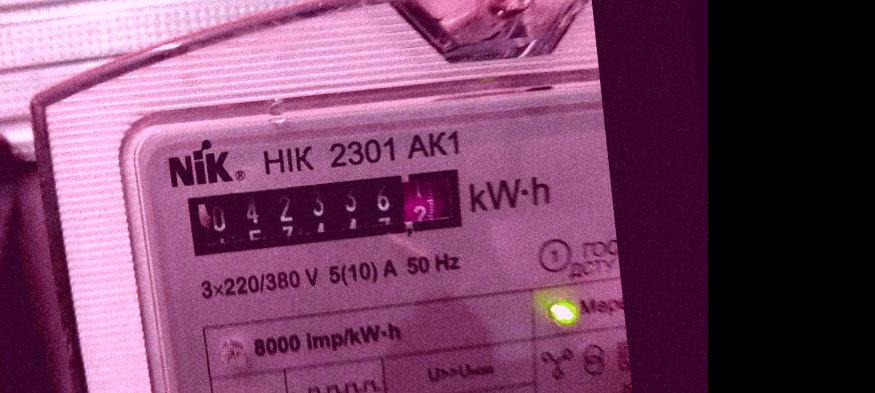0: (208, 203, 227, 233)
1: (409, 177, 423, 200)
2: (275, 192, 294, 223), (410, 202, 427, 222)
3: (338, 182, 357, 214), (307, 188, 324, 217)
4: (241, 195, 261, 225)
6: (372, 181, 392, 212)
screen: (173, 155, 476, 266)
